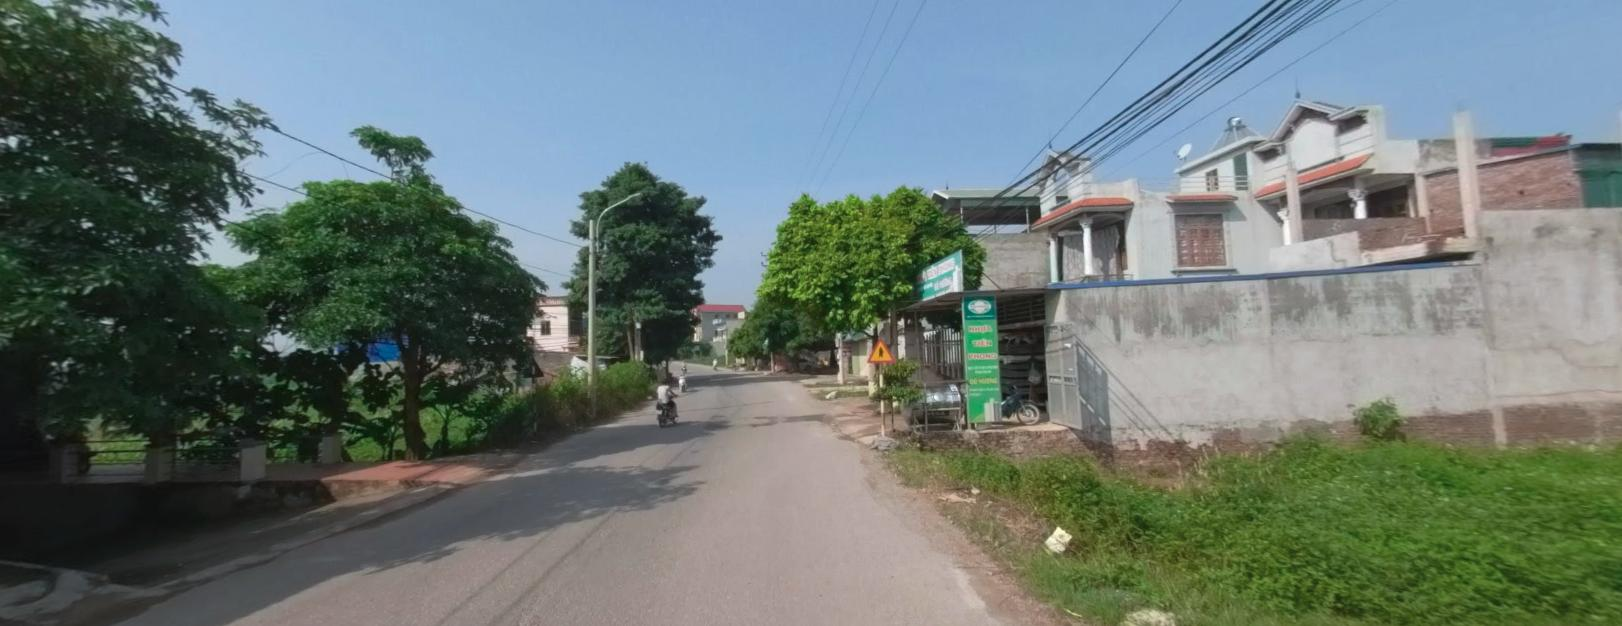Nguy hiem: (866, 336, 893, 360)
